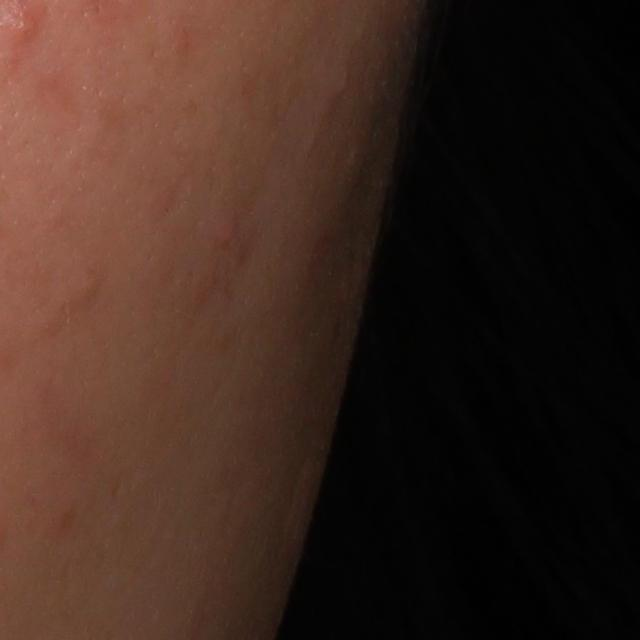papule: (211, 211, 244, 250)
